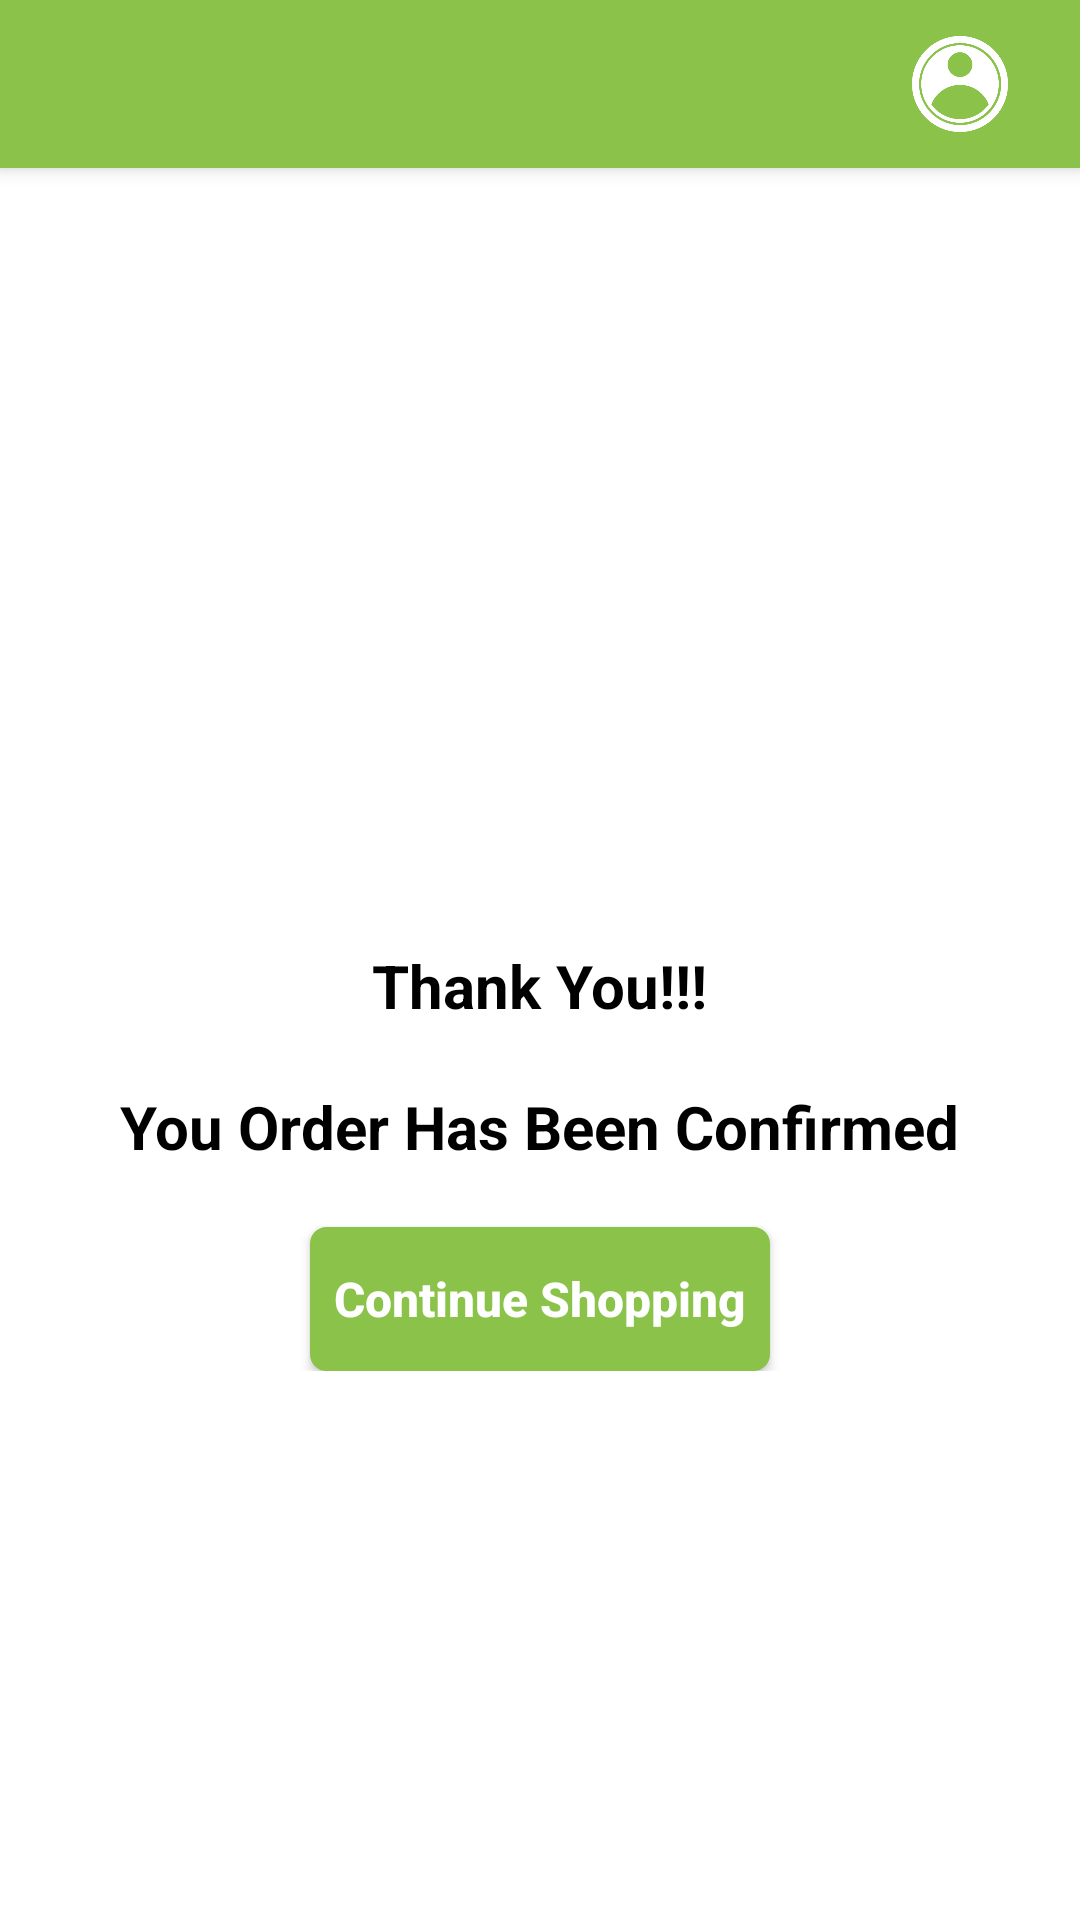

Screen size 1080×1920. Icon name, then its center in pixels as (x=x, y=y):
userima: (x=960, y=84)
